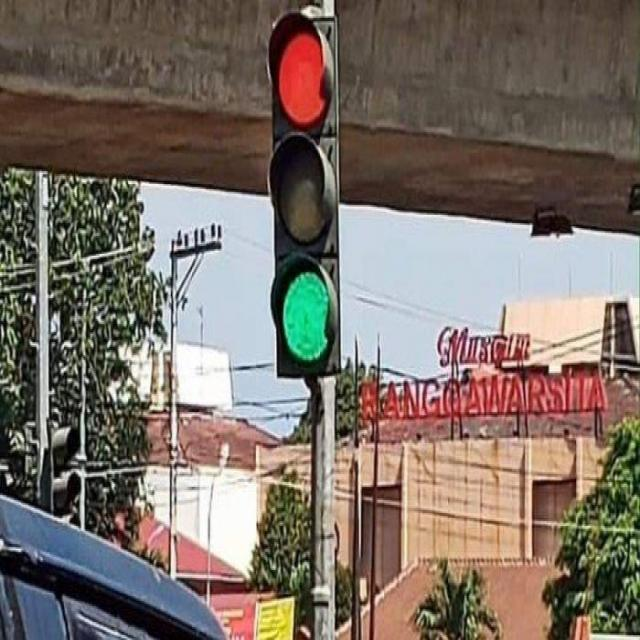green_light: (268, 126, 341, 377)
